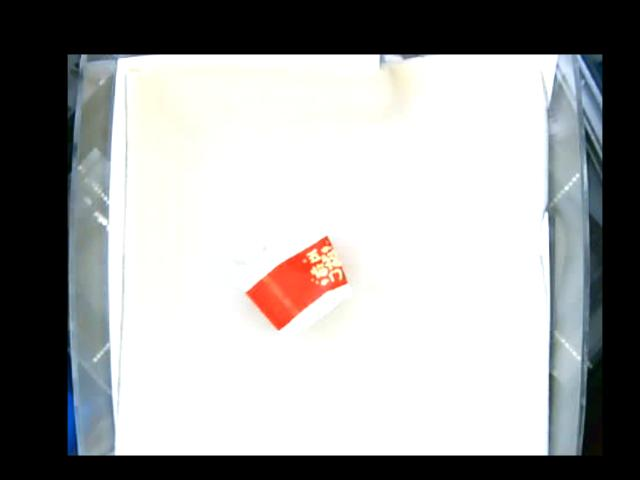Cup: (233, 216, 353, 338)
